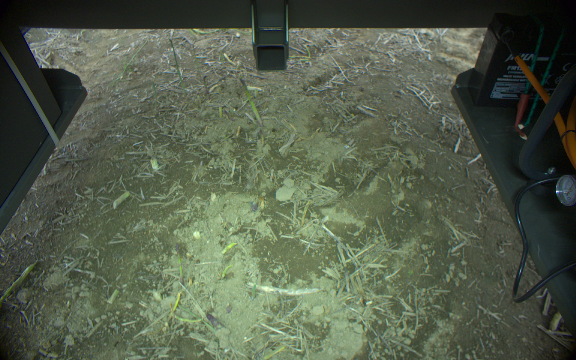aspa: (235, 75, 266, 131), (167, 39, 186, 90), (171, 243, 190, 291)
